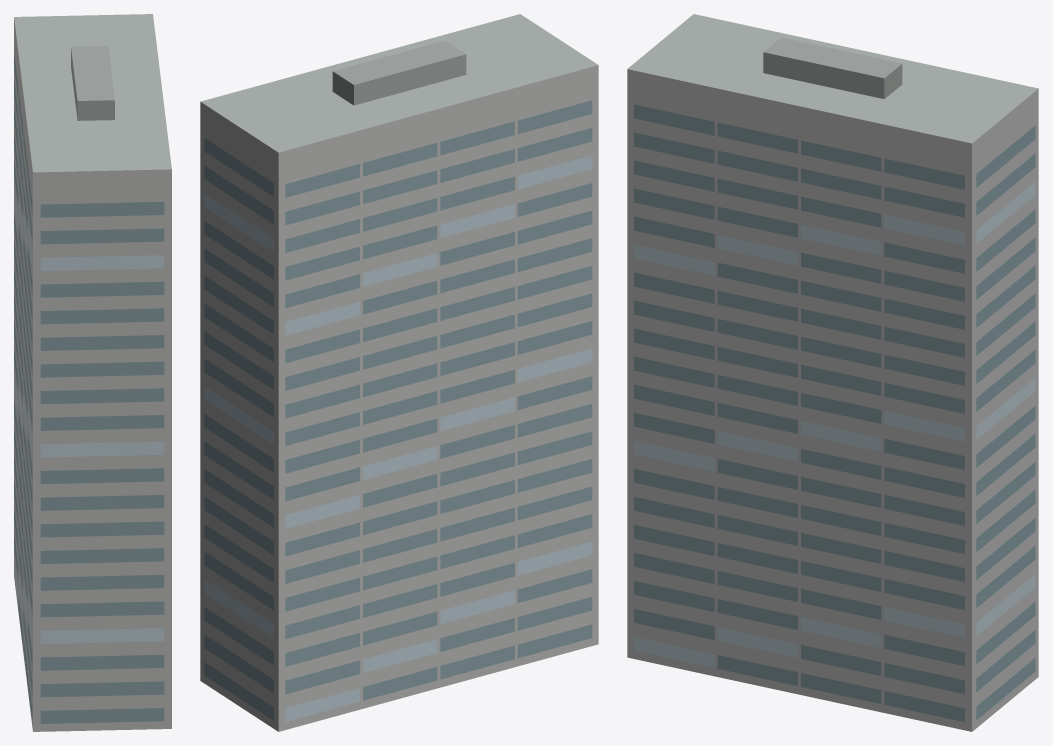
The model's file is apt-a10022803.glb.
The picture shows the model from 3 angles, left to right: view 1: azimuth 30°, elevation 25°; view 2: azimuth 150°, elevation 25°; view 3: azimuth 270°, elevation 25°; orthographic projection. The views are drawn at different scales.
Parts seen in each view (by area): view 1: apt-a10022803; view 2: apt-a10022803; view 3: apt-a10022803.
Boxes of the visible parts, bbox=[...] form: apt-a10022803: bbox=[14, 14, 171, 731]; apt-a10022803: bbox=[200, 14, 598, 731]; apt-a10022803: bbox=[627, 14, 1038, 731].
Bounding box in the file's own units: 31.91 × 70 × 42.85.
